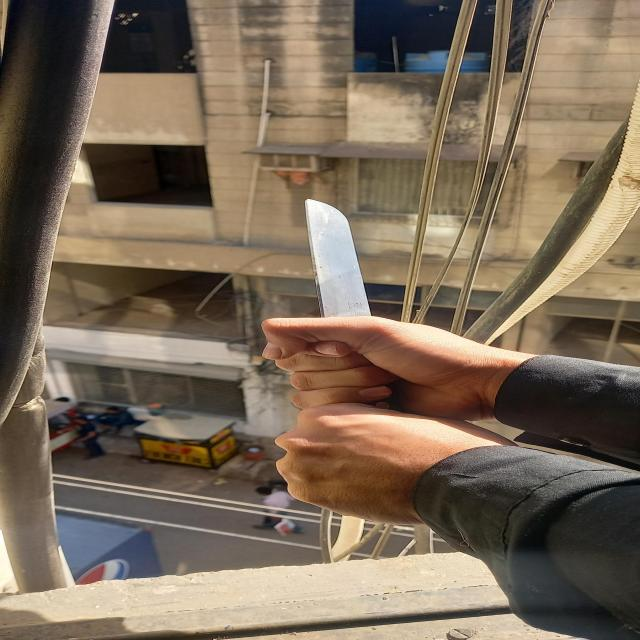faca: (308, 200, 376, 316)
